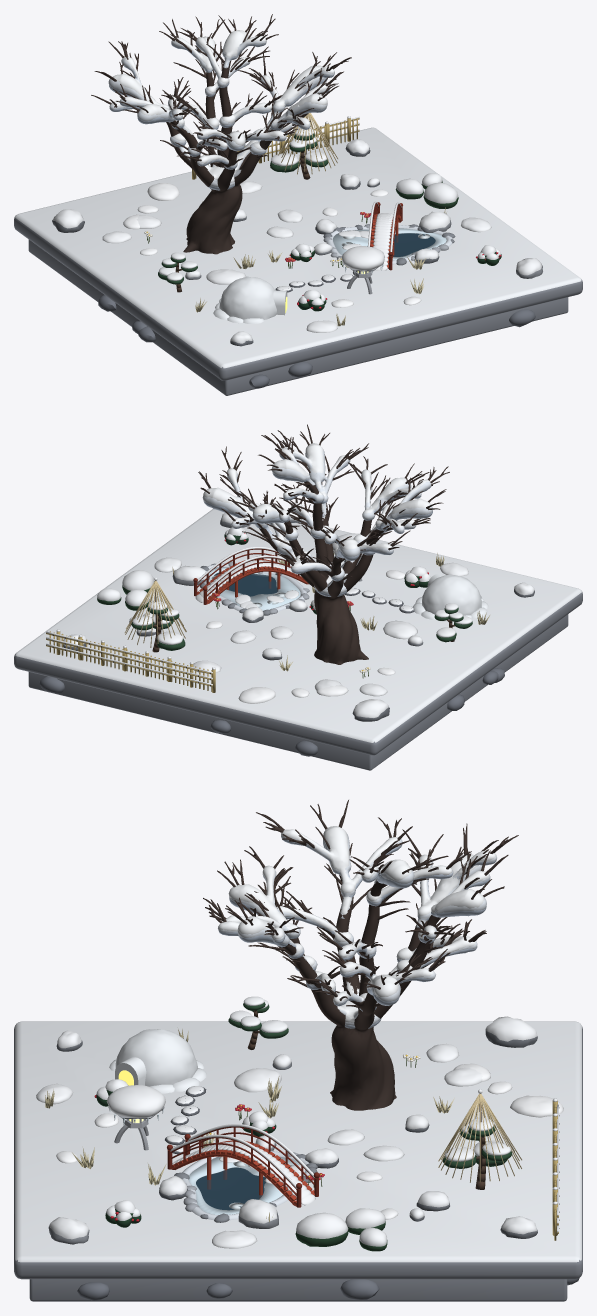
The model's file is winter.glb.
3 views of the same model, one above another, from view 1: azimuth 30°, elevation 25°; view 2: azimuth 150°, elevation 25°; view 3: azimuth 270°, elevation 25° (orthographic). The views are drawn at different scales.
Visible parts, largest first — view 1: Base, Trunk, Blossoms, Grass, Snow, Pines, Kamakura, Karikomi, Camellias, SnowLantern, Fence, Rocks (+4 smaller); view 2: Base, Trunk, Blossoms, Grass, Snow, Fence, Pines, Kamakura, Bridge, Karikomi, Ice, Rocks (+4 smaller); view 3: Base, Trunk, Blossoms, Grass, Snow, Pines, Kamakura, Bridge, Karikomi, SnowLantern, Rocks, Water (+5 smaller).
Part boxes in pixels (left/top/right/bottom): Base: left=14, top=127, right=582, bottom=395; Trunk: left=91, top=14, right=351, bottom=254; Blossoms: left=108, top=30, right=334, bottom=190; Grass: left=102, top=181, right=491, bottom=332; Snow: left=53, top=139, right=542, bottom=343; Pines: left=158, top=113, right=337, bottom=292; Kamakura: left=213, top=276, right=287, bottom=323; Karikomi: left=395, top=173, right=458, bottom=208; Camellias: left=289, top=244, right=501, bottom=311; SnowLantern: left=341, top=246, right=384, bottom=294; Fence: left=192, top=116, right=359, bottom=179; Rocks: left=52, top=147, right=542, bottom=346; Base: left=14, top=509, right=582, bottom=770; Trunk: left=198, top=424, right=449, bottom=664; Blossoms: left=202, top=443, right=432, bottom=596; Grass: left=143, top=552, right=489, bottom=703; Snow: left=63, top=513, right=534, bottom=717; Fence: left=46, top=629, right=215, bottom=692; Pines: left=124, top=577, right=472, bottom=652; Kamakura: left=413, top=573, right=488, bottom=621; Bridge: left=193, top=548, right=308, bottom=604; Karikomi: left=97, top=570, right=154, bottom=610; Ice: left=208, top=567, right=300, bottom=610; Rocks: left=63, top=518, right=534, bottom=721; Base: left=14, top=1021, right=582, bottom=1301; Trunk: left=203, top=800, right=518, bottom=1110; Blossoms: left=218, top=826, right=496, bottom=1028; Grass: left=36, top=1029, right=563, bottom=1248; Snow: left=49, top=1016, right=537, bottom=1239; Pines: left=228, top=996, right=521, bottom=1189; Kamakura: left=109, top=1029, right=206, bottom=1093; Bridge: left=167, top=1126, right=319, bottom=1207; Karikomi: left=295, top=1208, right=387, bottom=1251; SnowLantern: left=106, top=1084, right=165, bottom=1150; Rocks: left=48, top=1029, right=537, bottom=1244; Water: left=196, top=1167, right=266, bottom=1210.
Size of the model in its own units: 72 by 46.26 by 72.
